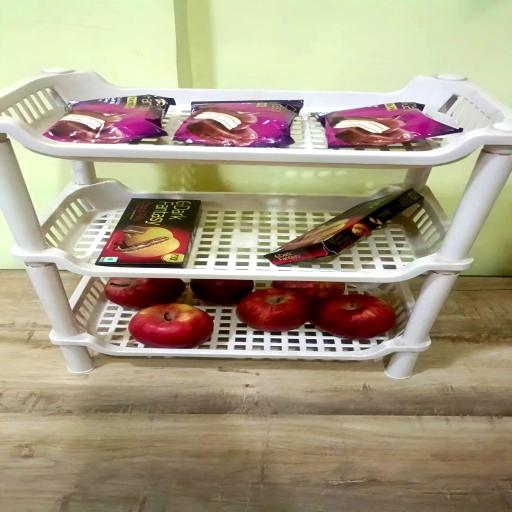Apple: (127, 304, 212, 348), (315, 295, 395, 340), (239, 289, 316, 333), (104, 279, 184, 310), (275, 282, 346, 308), (193, 280, 255, 305)
Choco Fills: (264, 189, 423, 268), (94, 200, 200, 270)
Choco Pie: (311, 101, 462, 148), (43, 94, 174, 144), (176, 99, 304, 147)
